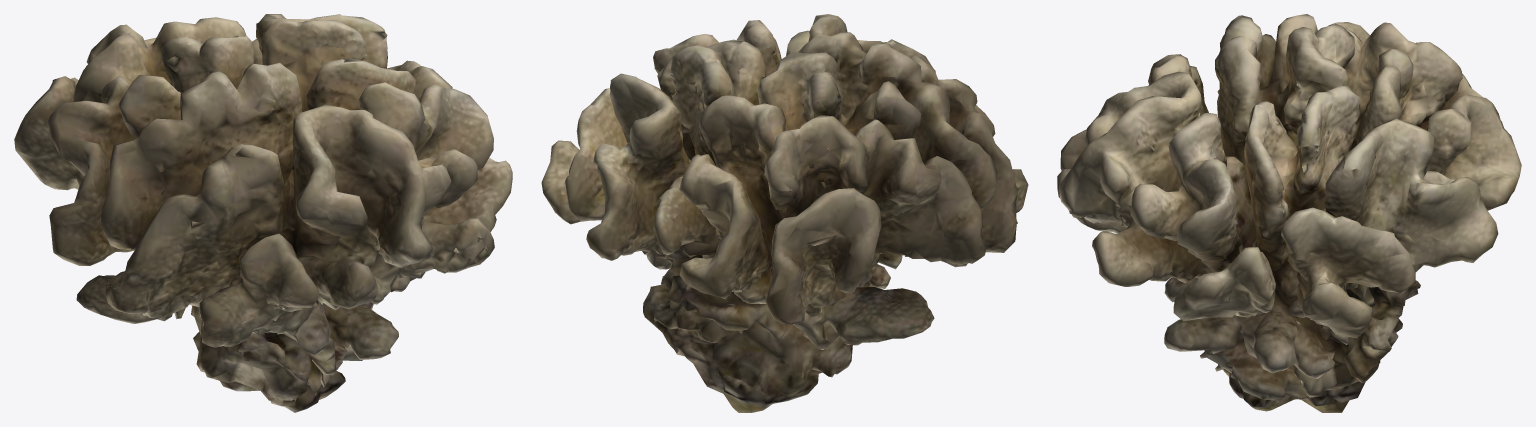
File: pocillopora.glb
3 renders of one model, left to right at view 1: azimuth 30°, elevation 25°; view 2: azimuth 150°, elevation 25°; view 3: azimuth 270°, elevation 25°, orthographic. The views are drawn at different scales.
Visible parts, largest first — view 1: Object_4; view 2: Object_4; view 3: Object_4.
Boxes of the visible parts, <box> form: Object_4: <box>14,14,512,412</box>; Object_4: <box>541,14,1028,412</box>; Object_4: <box>1057,14,1521,412</box>.
Bounding box in the file's own units: 1 × 0.8206 × 0.9801.
Materials: 1 (1 with a texture image).
